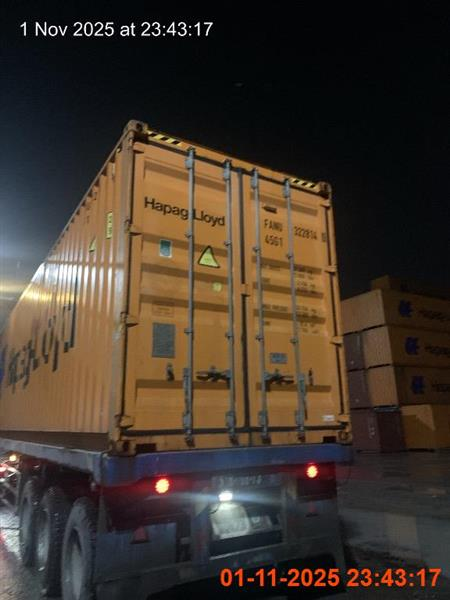crack: (0, 120, 355, 599)
